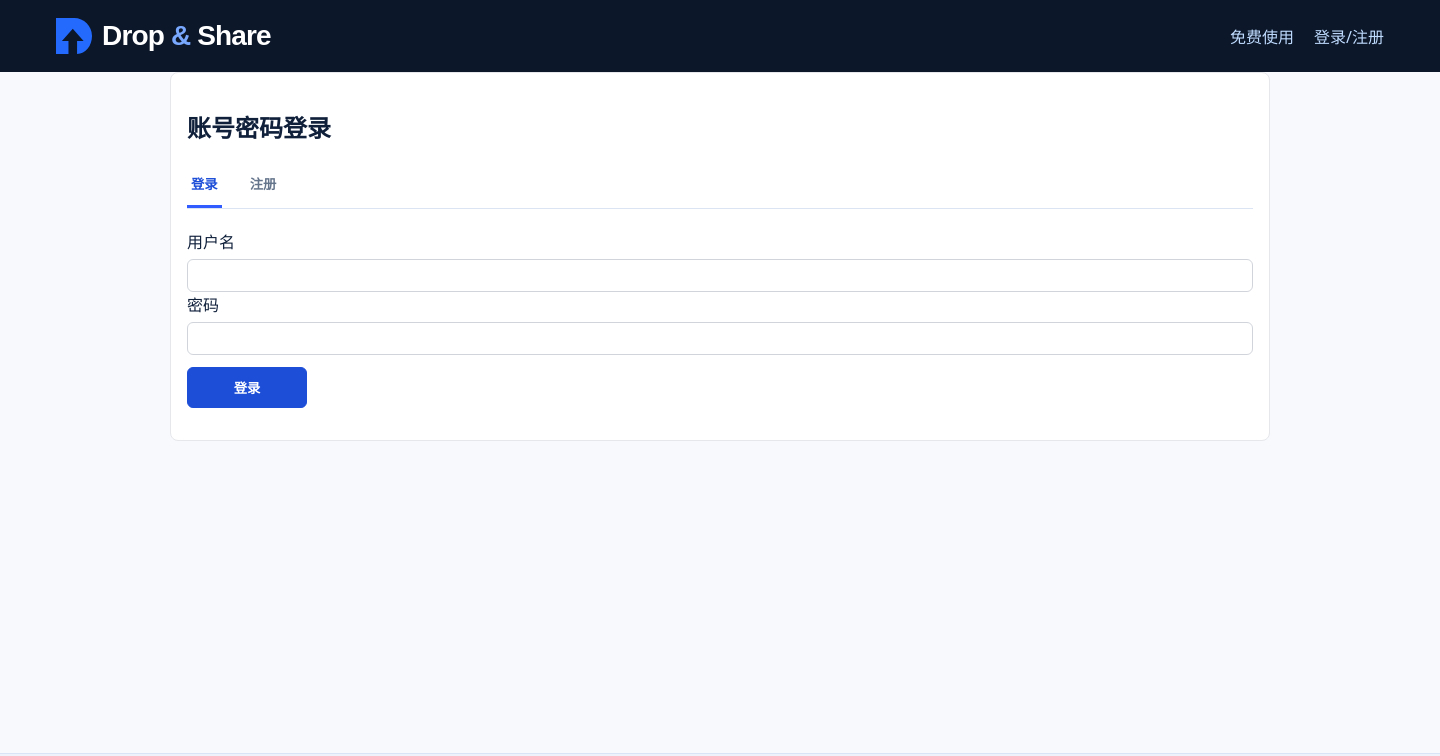
Test: authentication destinations › opens the uploader after login
The image size is (1440, 756).
Type "member" into the field labelled "用户名" at (720, 275), box [187,259,1253,292]
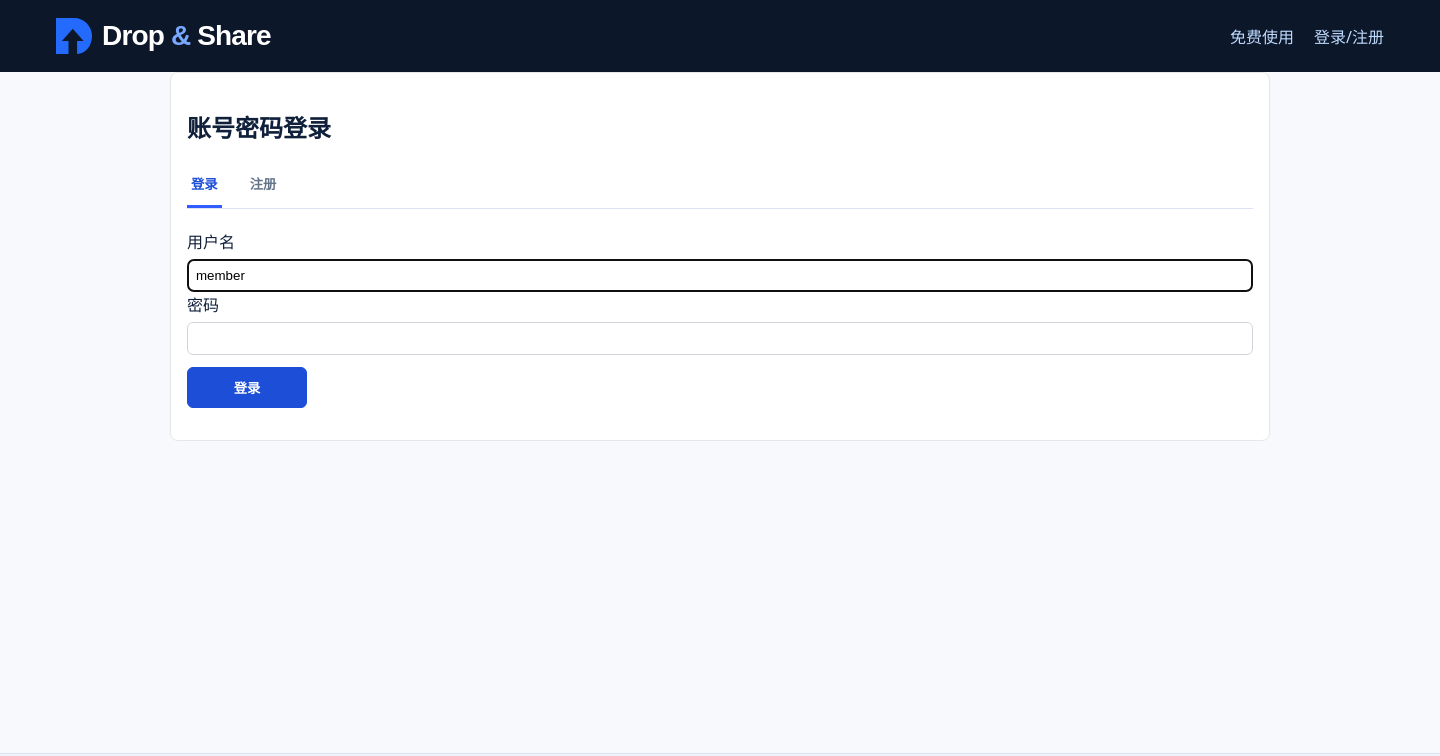
Type "password123" into the password field labelled "密码" at (720, 338), box [187,322,1253,355]
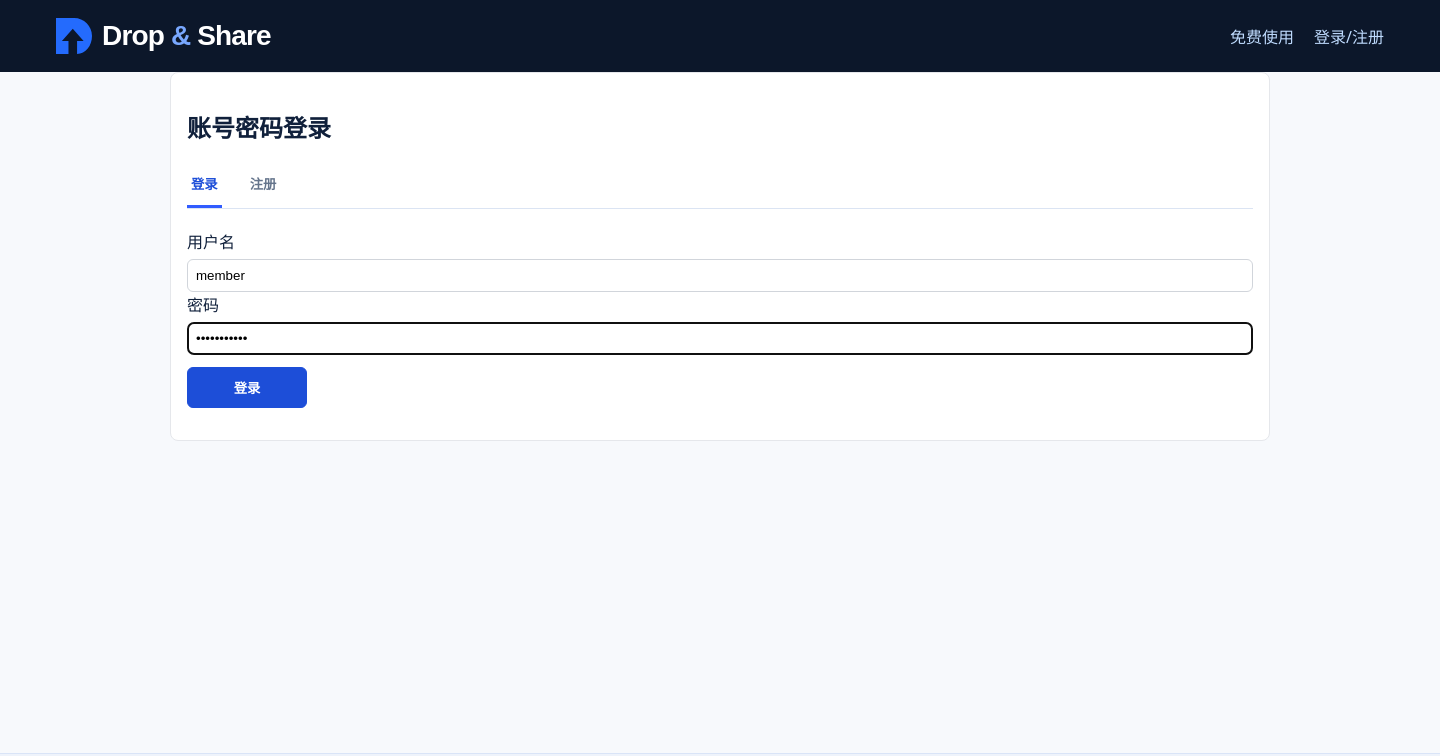
Click the 2nd button "登录" at (247, 387), box [187,367,307,408]
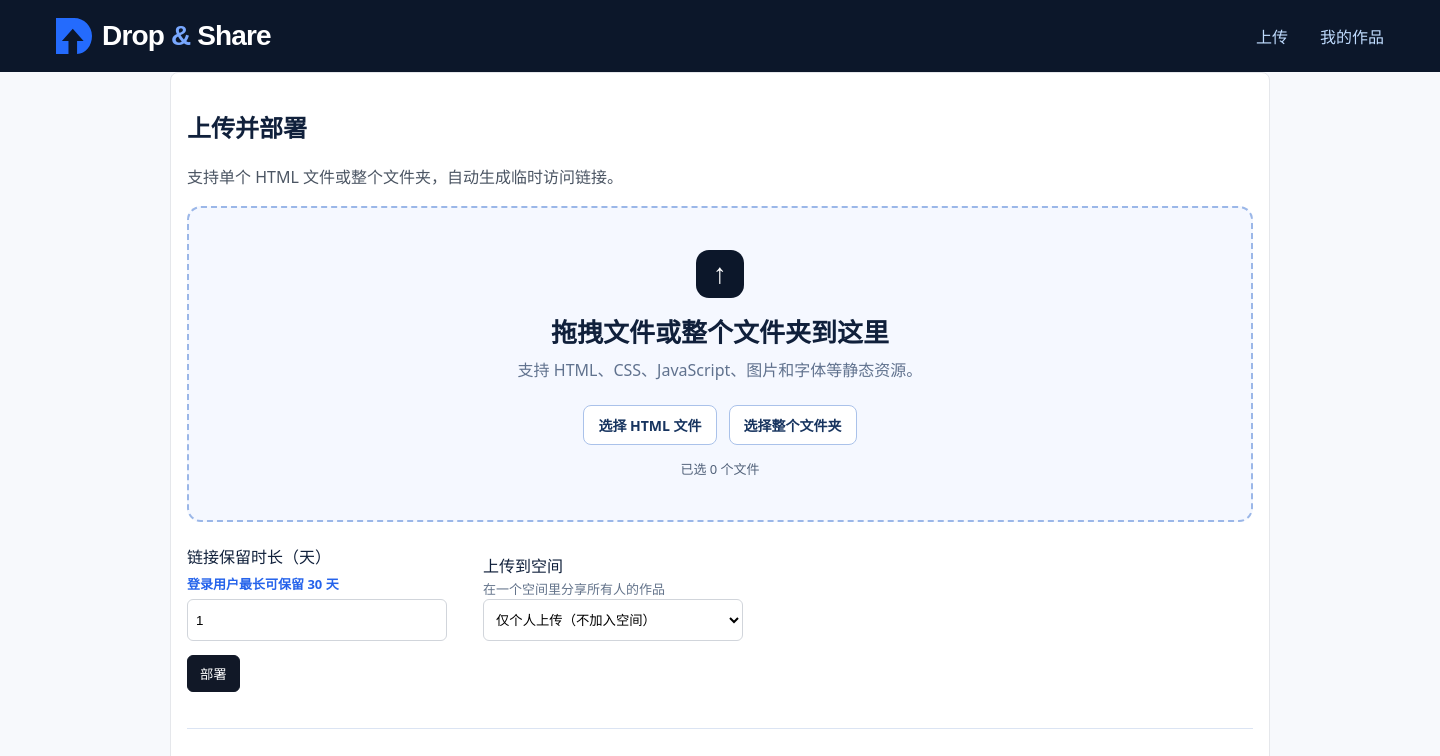
Now the heading "上传并部署" is shown, box [187,111,307,144]
